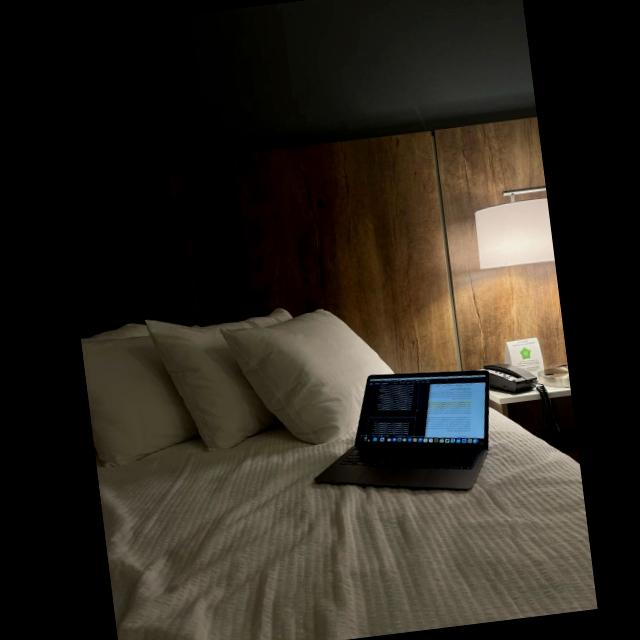laptop: (316, 369, 489, 488)
